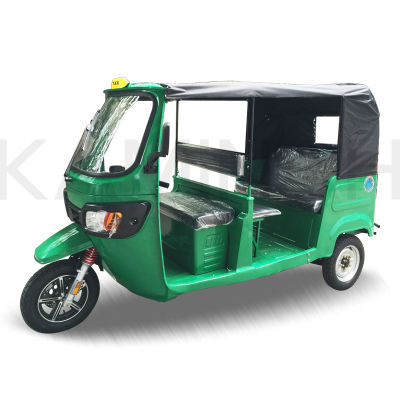threewheel: (20, 76, 380, 334)
